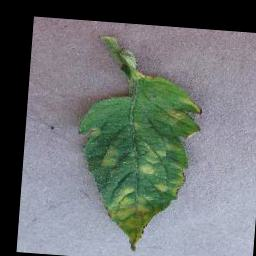Leaf_Mold: (102, 185, 163, 254), (162, 106, 188, 126), (180, 94, 202, 114), (132, 70, 160, 84), (138, 160, 156, 177)
